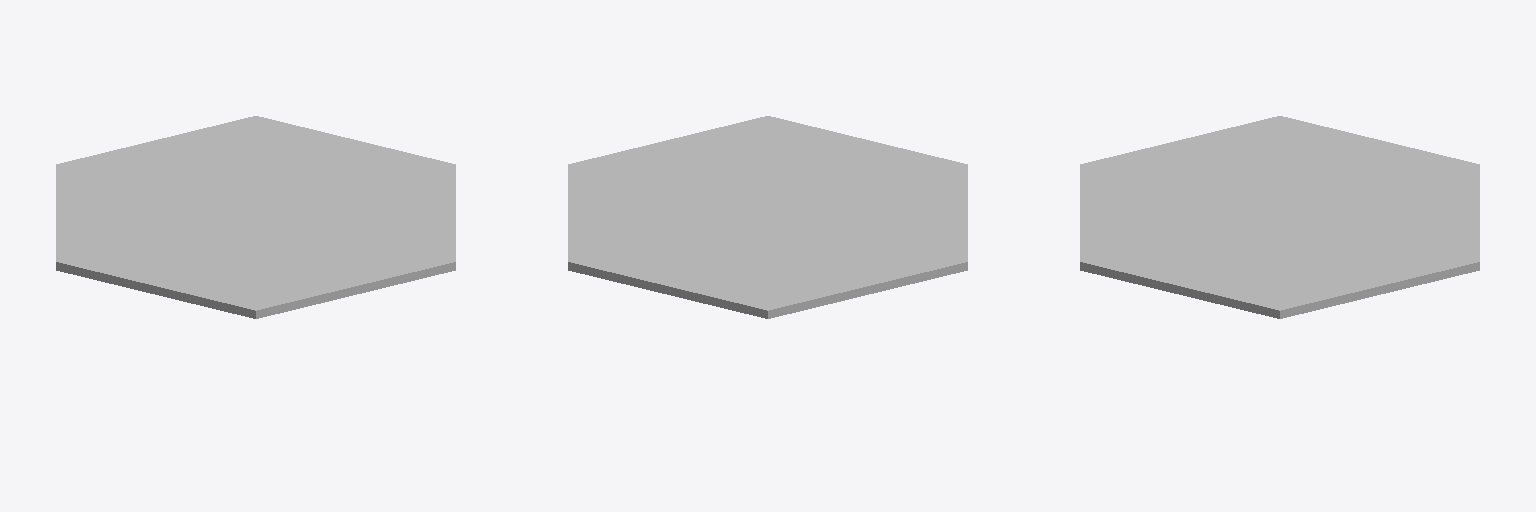
Rendered from platform.obj.
3 renders of one model, left to right at view 1: azimuth 30°, elevation 25°; view 2: azimuth 150°, elevation 25°; view 3: azimuth 270°, elevation 25°, orthographic.
Visible parts, largest first — view 1: Cylinder02; view 2: Cylinder02; view 3: Cylinder02.
Part boxes in pixels (left/top/right/bottom): Cylinder02: left=56, top=116, right=455, bottom=318; Cylinder02: left=568, top=116, right=967, bottom=318; Cylinder02: left=1080, top=116, right=1479, bottom=318.
Bounding box in the file's own units: 10 × 2.05 × 8.66.